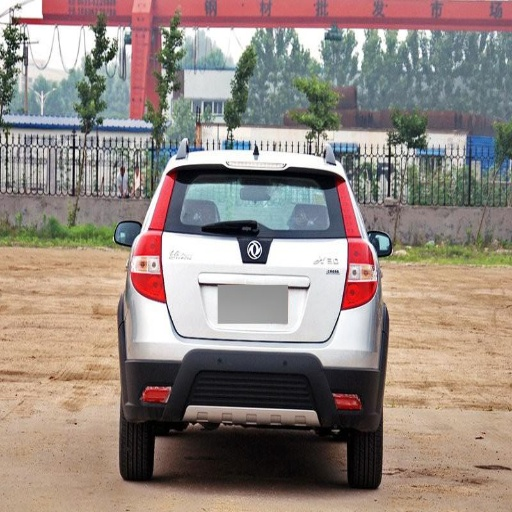back_bumper: (119, 288, 387, 430)
tailgate: (162, 242, 345, 340)
trunk: (163, 232, 353, 327)
